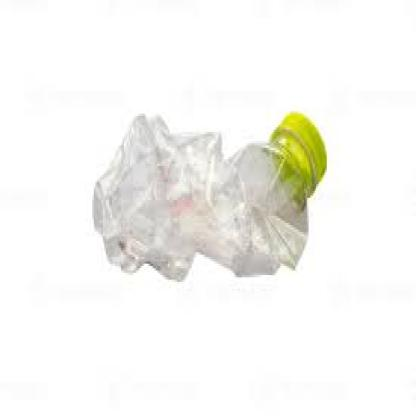Glass Bottle: (85, 100, 329, 288)
